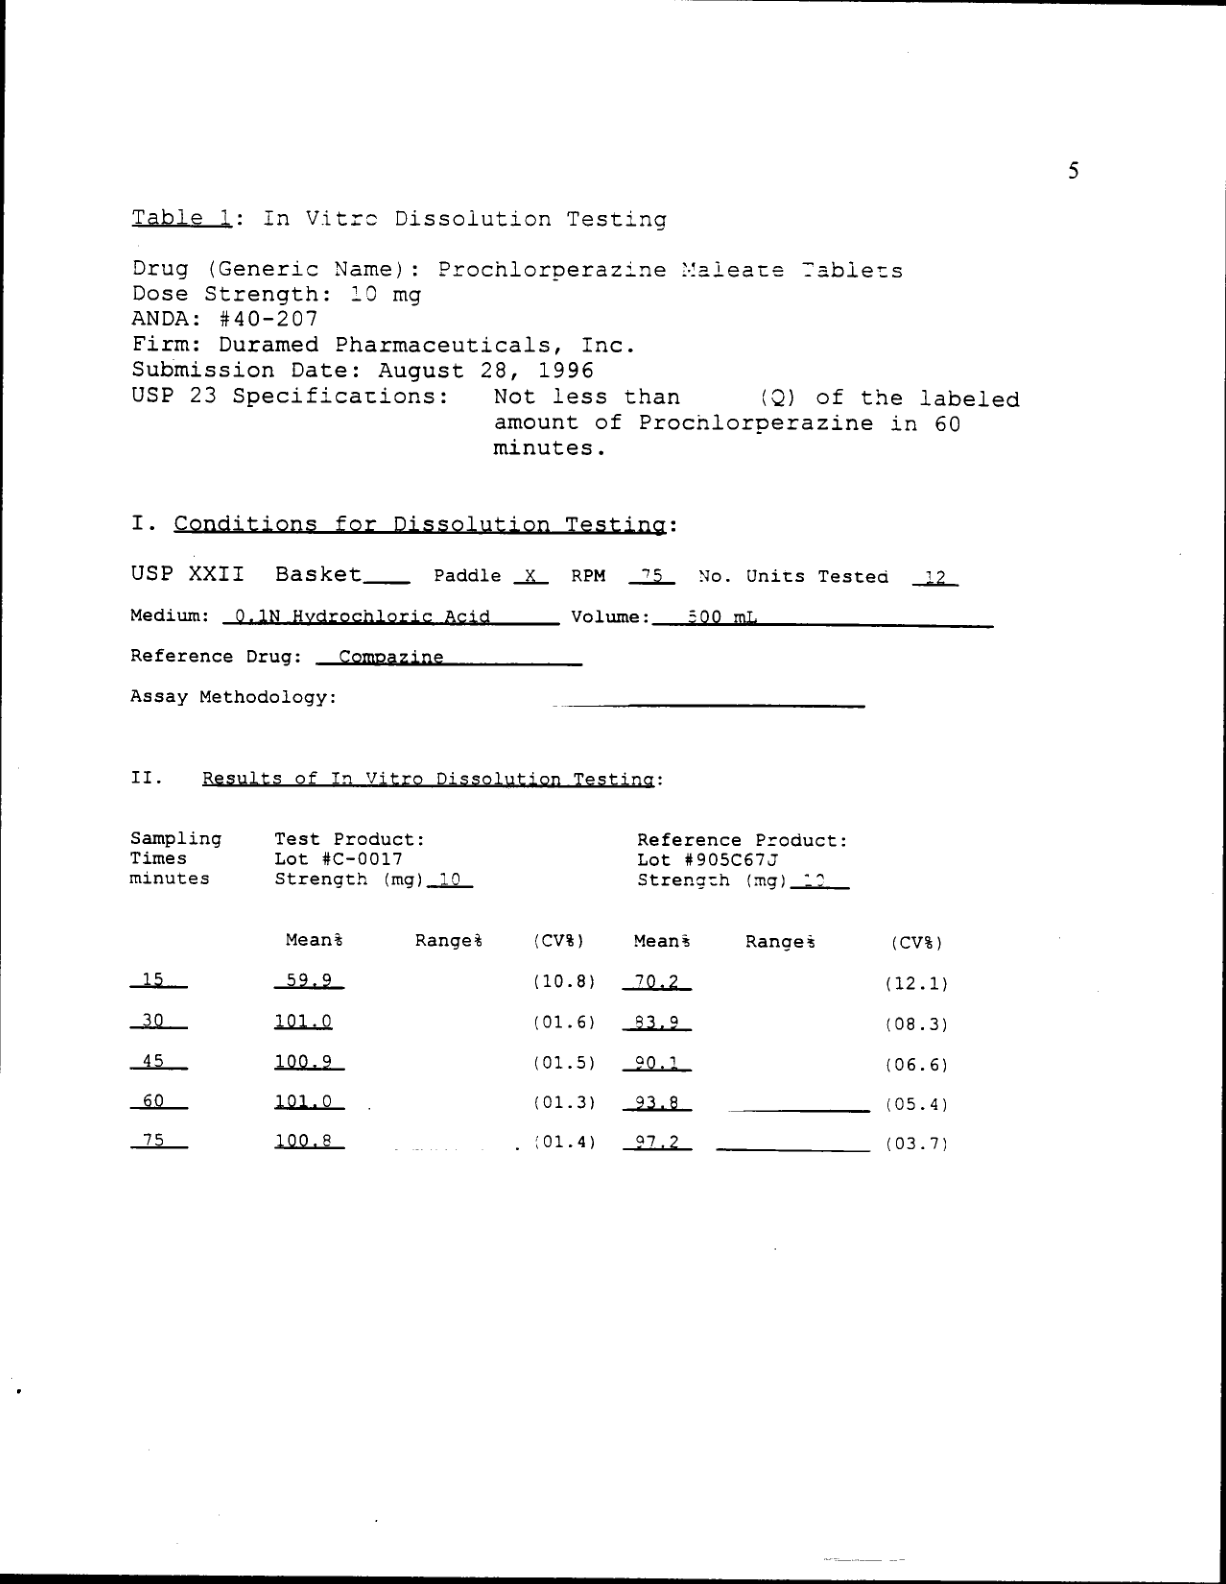nolines: (127, 931, 952, 1157), (123, 827, 853, 894)
